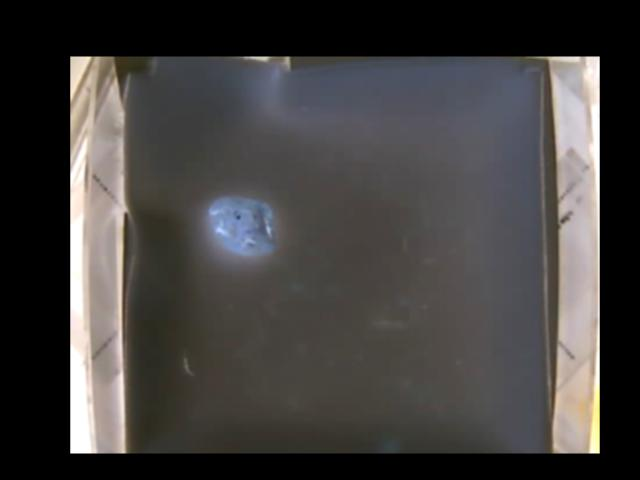Pebble: (209, 197, 272, 256)
